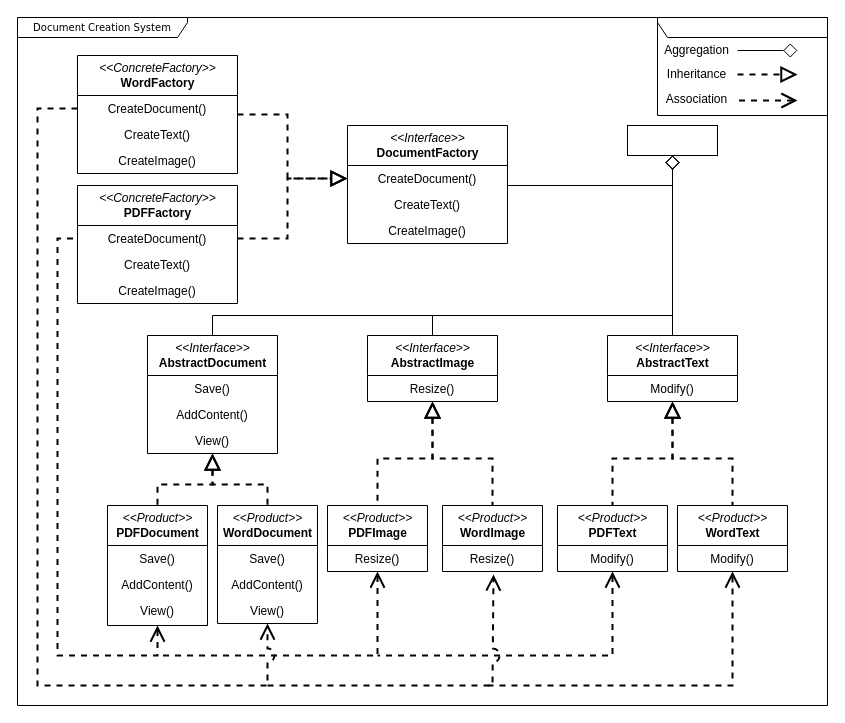
The diagram is 845 pixels wide and 723 high, and some of its shapes have lost their labels. Here are the shapes that lost their labels. From the top down, the centre of each, then its label:
the point at 742,66: Key
the point at 672,140: Client
